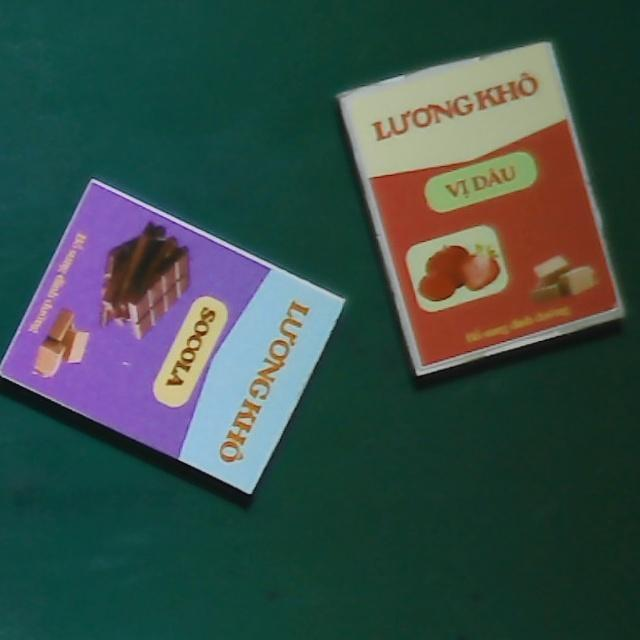dau: (335, 32, 628, 374)
socola: (0, 177, 346, 498)
